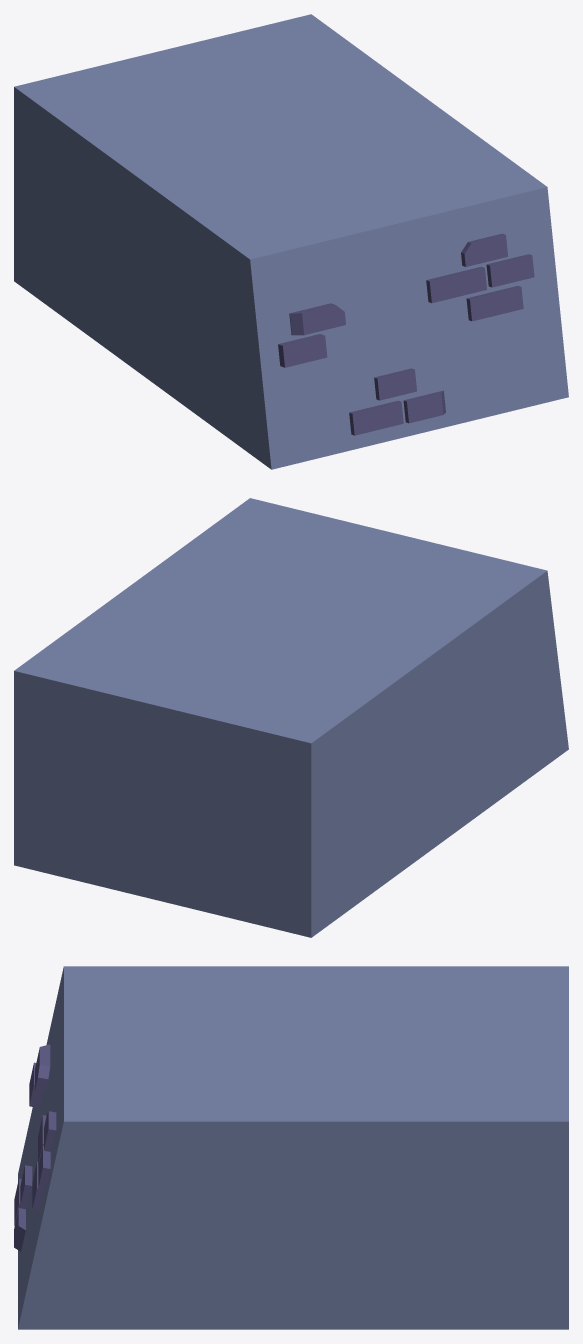
The model's file is Wall_Base_Mid_02.fbx.
The picture shows the model from 3 angles, top to bottom: view 1: azimuth 30°, elevation 25°; view 2: azimuth 150°, elevation 25°; view 3: azimuth 270°, elevation 25°; orthographic projection. The views are drawn at different scales.
Parts seen in each view (by area): view 1: Wall_Base_Mid_02; view 2: Wall_Base_Mid_02; view 3: Wall_Base_Mid_02.
Part boxes in pixels (bbox=[...]): Wall_Base_Mid_02: bbox=[14, 14, 568, 469]; Wall_Base_Mid_02: bbox=[14, 498, 568, 937]; Wall_Base_Mid_02: bbox=[14, 966, 568, 1329].
Bounding box in the file's own units: 800 × 500 × 1209.
